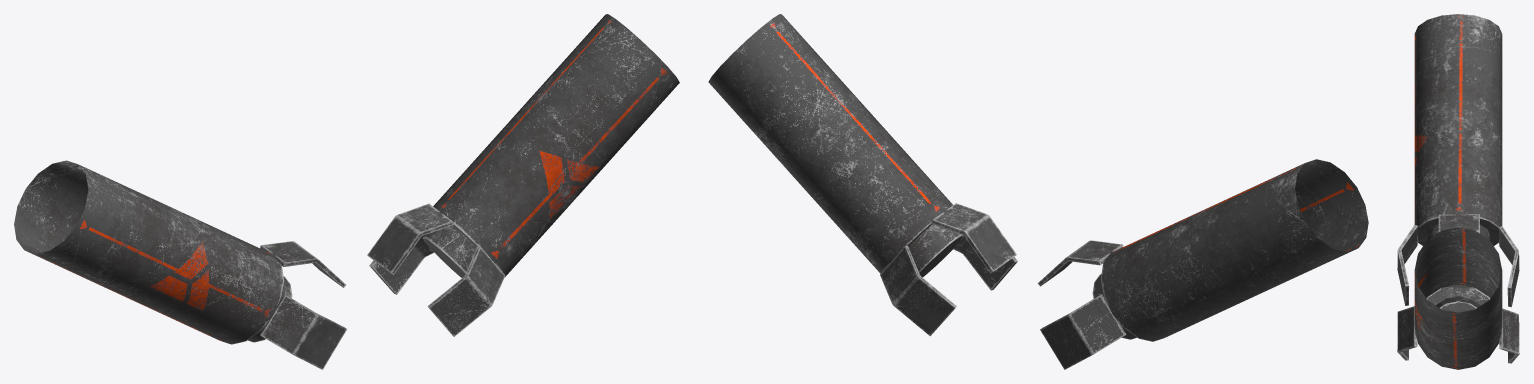
File: Garras_nucleo 1.fbx
3 views of the same model, side by side, from view 1: azimuth 30°, elevation 25°; view 2: azimuth 150°, elevation 25°; view 3: azimuth 270°, elevation 25° (orthographic). The views are drawn at different scales.
Parts seen in each view (by area): view 1: Garra_der_D1; view 2: Garra_der_D1; view 3: Garra_der_D1.
Part boxes in pixels (x1=…): Garra_der_D1: x1=14, y1=14, x2=679, y2=369; Garra_der_D1: x1=708, y1=14, x2=1368, y2=369; Garra_der_D1: x1=1397, y1=14, x2=1519, y2=369.
Size of the model in its own units: 4.74 by 1.77 by 0.9013.
1 material, 1 textured.
